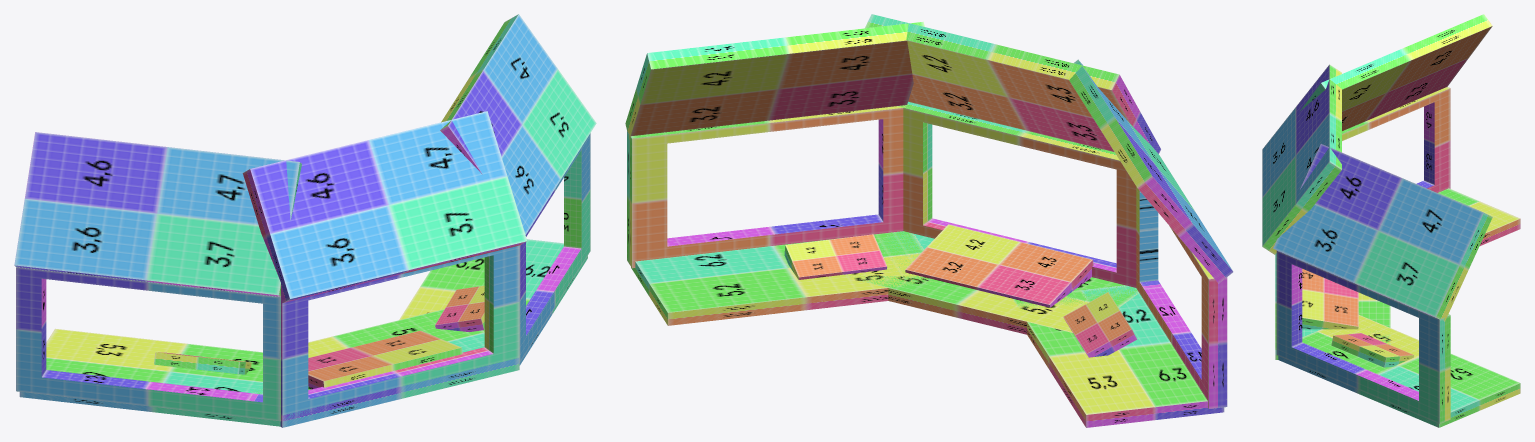
File: player.obj
3 views of the same model, side by side, from view 1: azimuth 30°, elevation 25°; view 2: azimuth 150°, elevation 25°; view 3: azimuth 270°, elevation 25° (orthographic). The views are drawn at different scales.
Visible parts, largest first — view 1: 立方体.009; view 2: 立方体.009; view 3: 立方体.009.
Boxes of the visible parts, x1,y1,x2,y2 form: 立方体.009: (14, 14, 596, 427); 立方体.009: (625, 14, 1233, 427); 立方体.009: (1262, 14, 1520, 427).
Bounding box in the file's own units: 14.72 × 5.69 × 6.72.
